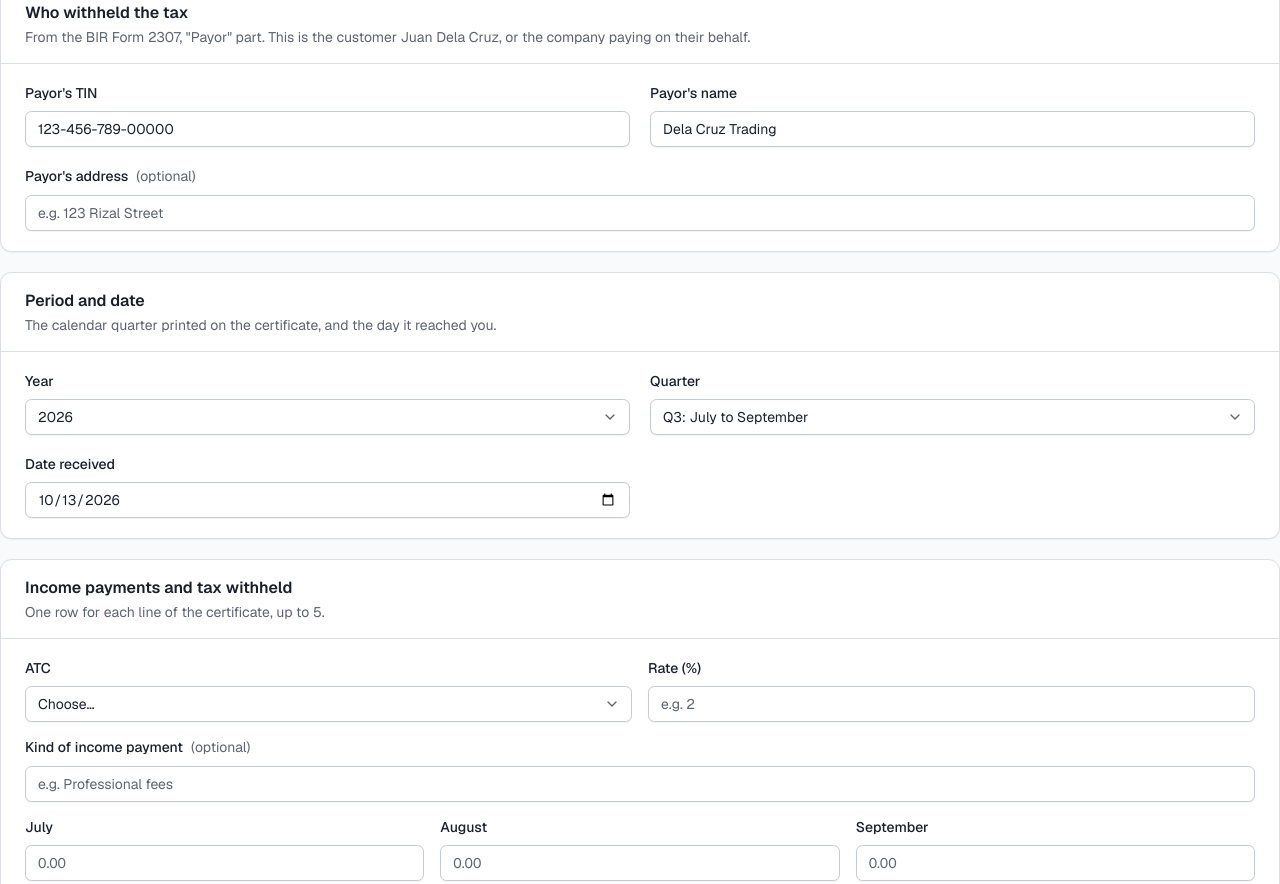
it: rows › names the quarter's real months and adds them into the total
Select "WI160 (2%)" in the dropdown labelled "ATC". click: coordinates (328, 704)
box: [25, 686, 632, 722]
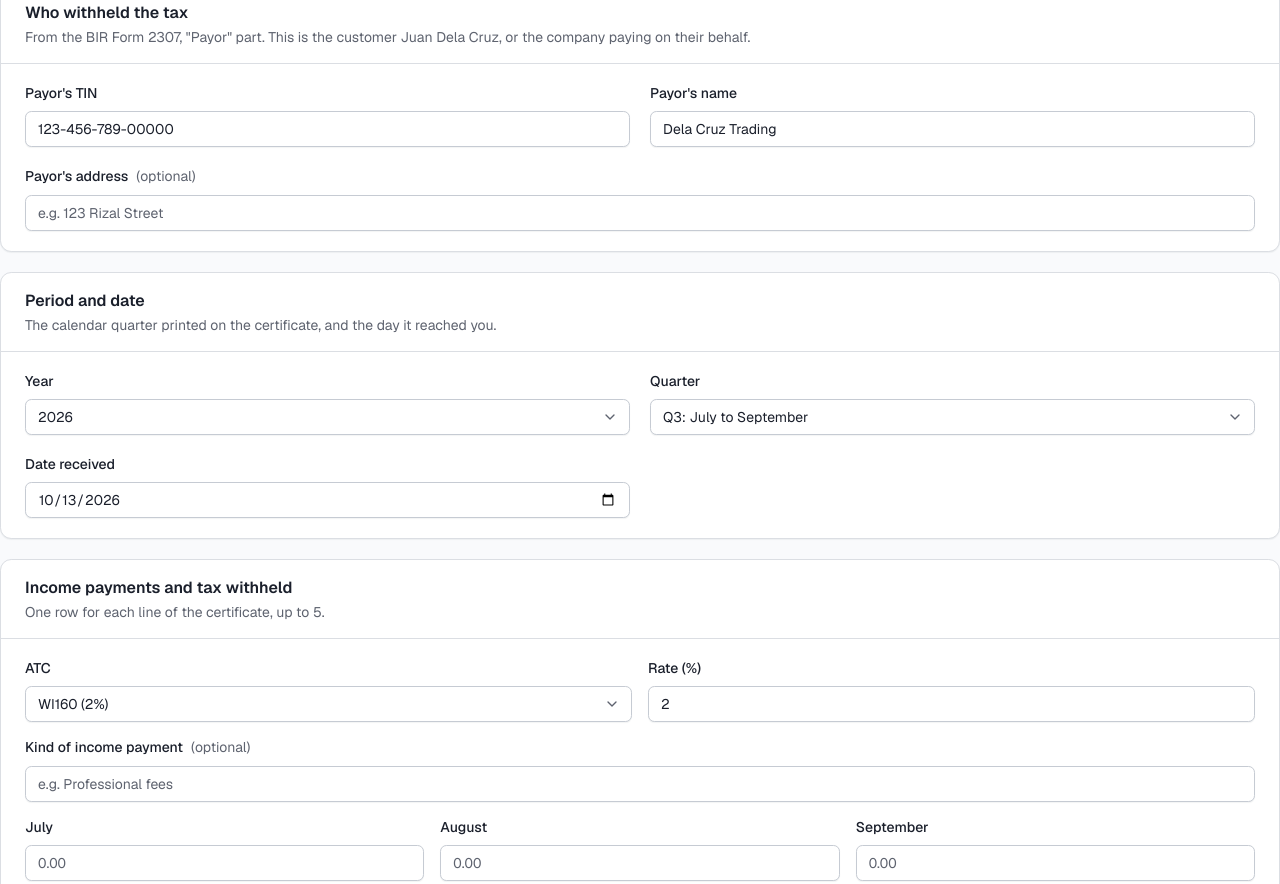
Type "1,000" into the field labelled "July". click: coordinates (225, 863)
box: [25, 845, 424, 881]
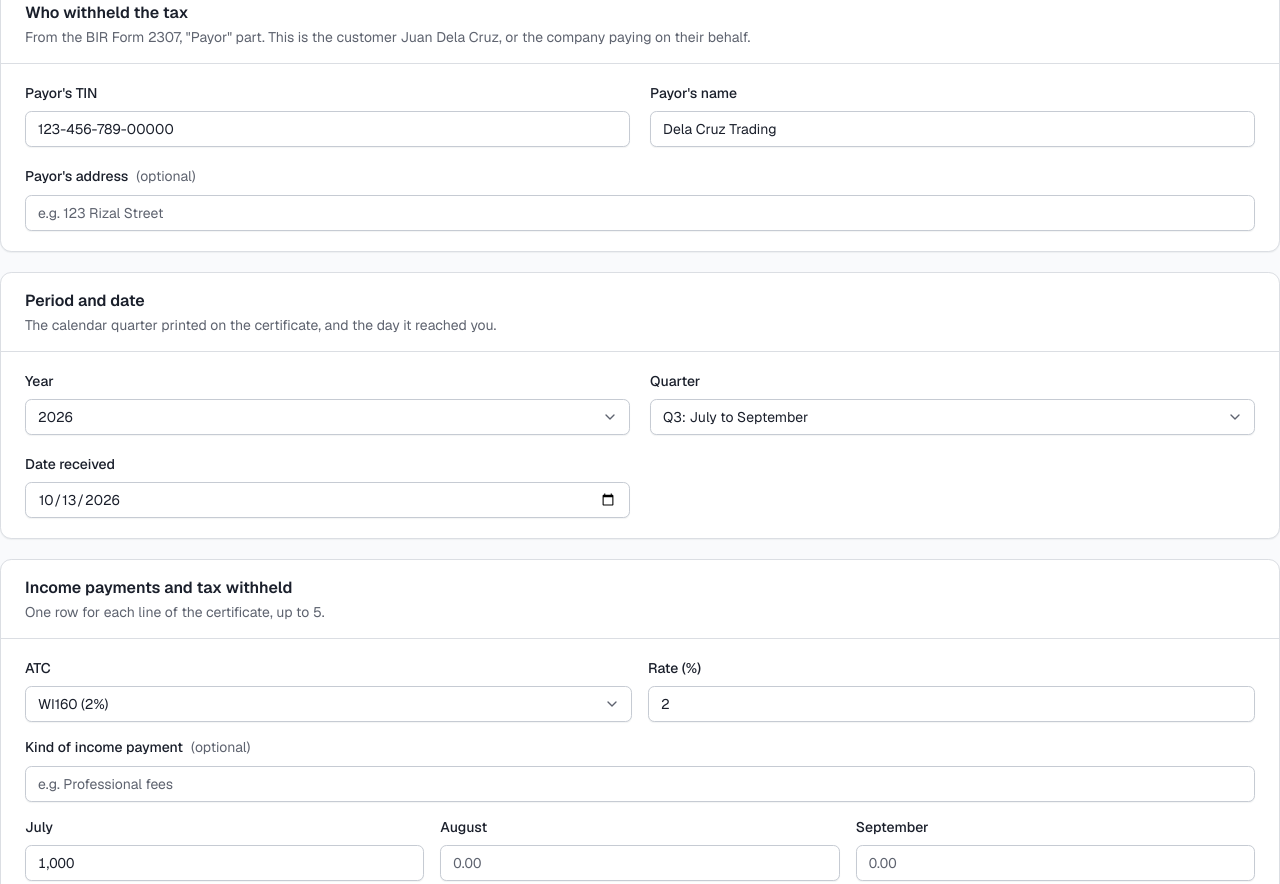
Type "500.50" into the field labelled "September". click: coordinates (1055, 863)
box: [856, 845, 1255, 881]
(page scrolled)
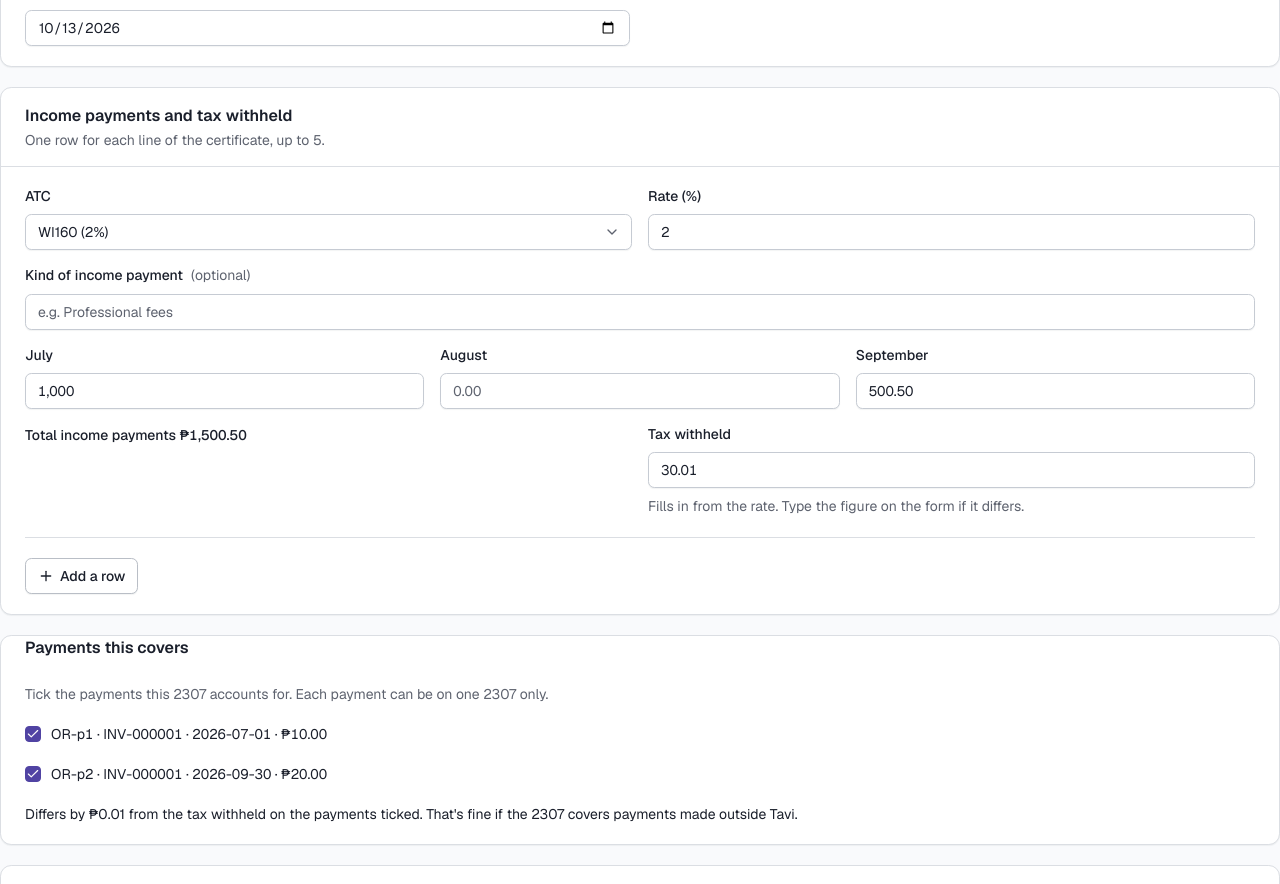
Expected: the field labelled "August" is shown, [440, 373, 840, 409]
Expected: the text "Total income payments ₱1,500.50" is shown, [25, 426, 247, 444]
